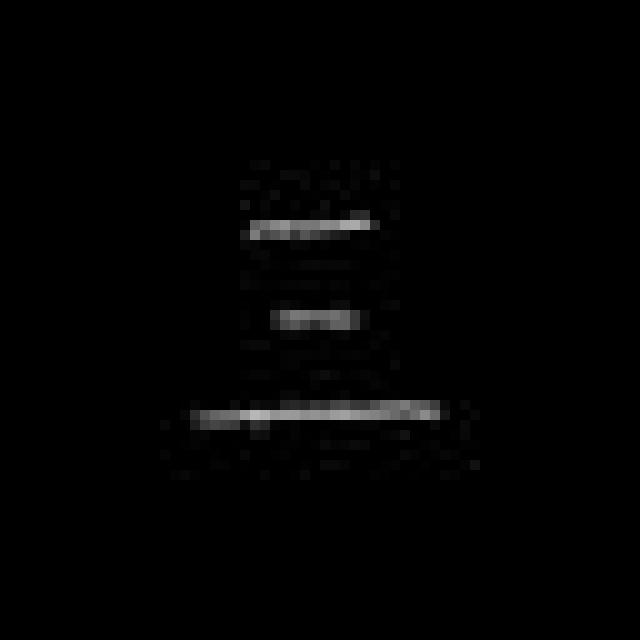3 -three-: (179, 198, 455, 451)
